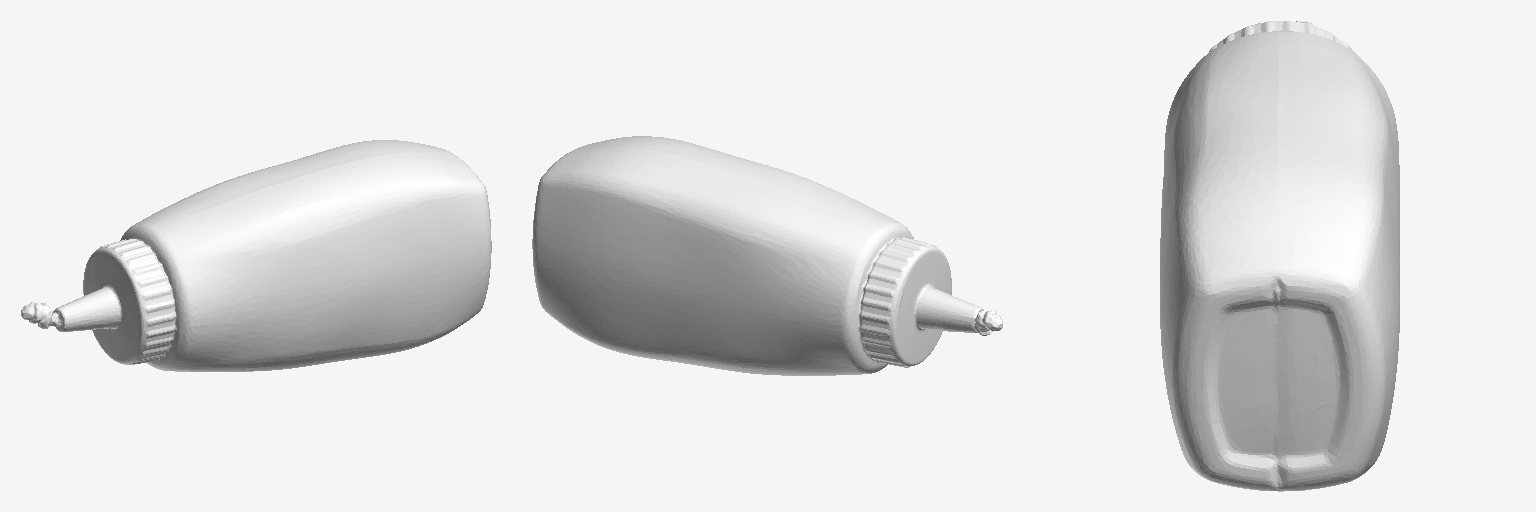
The robot description file, URDF, robot "myfirst":
<?xml version="1.0"?>
 <robot name="myfirst">
   <material name="light_green">
     <color rgba="0 1 0.498 1"/>
   </material>
   <material name="coral">
     <color rgba="1 0.498 0.3137 1"/>
   </material>
   <link name="Mustard">
     <visual>
       <geometry>
         <!-- <box size="0.16 0.21343700408935547 0.061"/> -->
         <mesh filename="Mustard.obj" scale="1 1 1"/>
       </geometry>
       <!-- <material name="light_green"/> -->
       <material name="white">
         <color rgba="1. 1. 1. 1."/>
       </material>
       <origin xyz="0 0 0" rpy="0 0 0"/>
     </visual>
     <inertial>
       <mass value="0.5"/>
       <inertia ixx="1.0" ixy="0.0" ixz="0.0" iyy="1.0" iyz="0.0" izz="1.0"/>
     </inertial>
   </link>

 </robot>

--- What the picture shows (computed from the rendered views, not written in the file) ---
The picture shows the robot from 3 angles, left to right: view 1: azimuth 30°, elevation 25°; view 2: azimuth 150°, elevation 25°; view 3: azimuth 270°, elevation 25°; orthographic projection.
Robot: myfirst — 1 links, 0 joints (none); root link Mustard; default pose: all joints at 0.
Visible links, largest first — view 1: Mustard; view 2: Mustard; view 3: Mustard.
Link boxes in pixels (box(x1,y1,x2,y2)): Mustard: box(21, 140, 491, 371); Mustard: box(532, 136, 1002, 375); Mustard: box(1160, 21, 1399, 491).
Size in the robot's own frame: 0.1601 by 0.0486 by 0.0651 metres.
Meshes: 1 distinct files referenced, 1 mesh visuals loaded (1 OBJ).
